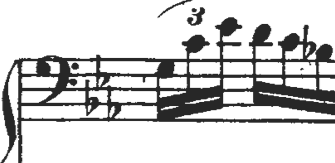bass_clef: (28, 50, 81, 106)
flat: (79, 78, 101, 118), (91, 52, 112, 91), (103, 84, 122, 124)
